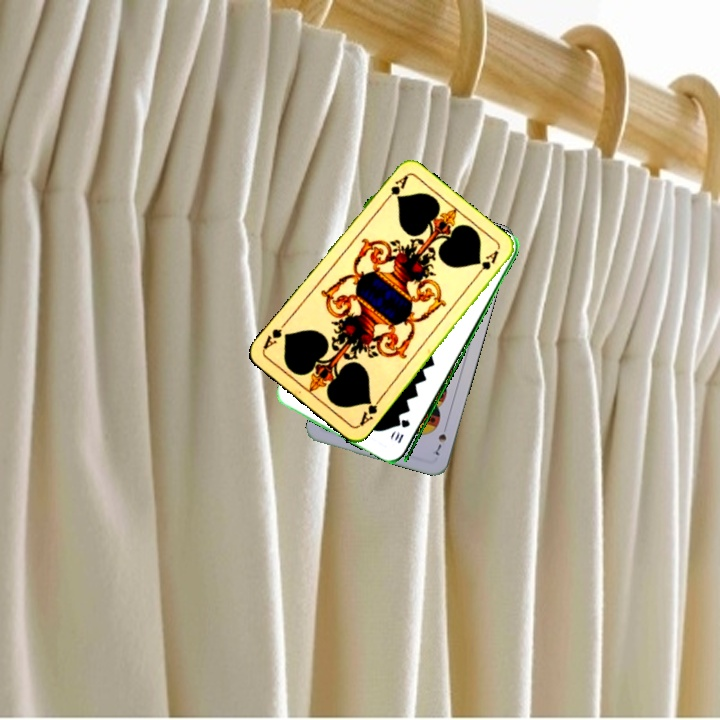G10: (390, 416, 412, 446)
GA: (379, 171, 411, 206), (355, 394, 384, 429)
S7: (431, 420, 450, 458)
